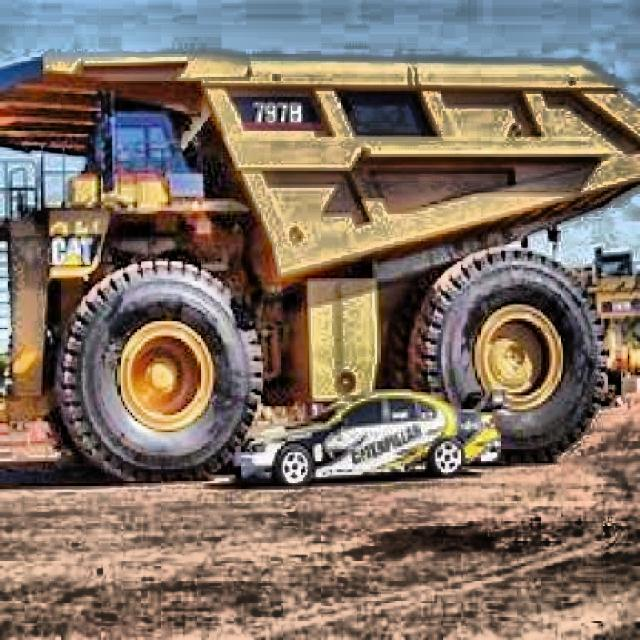dump_truck: (0, 39, 632, 495)
